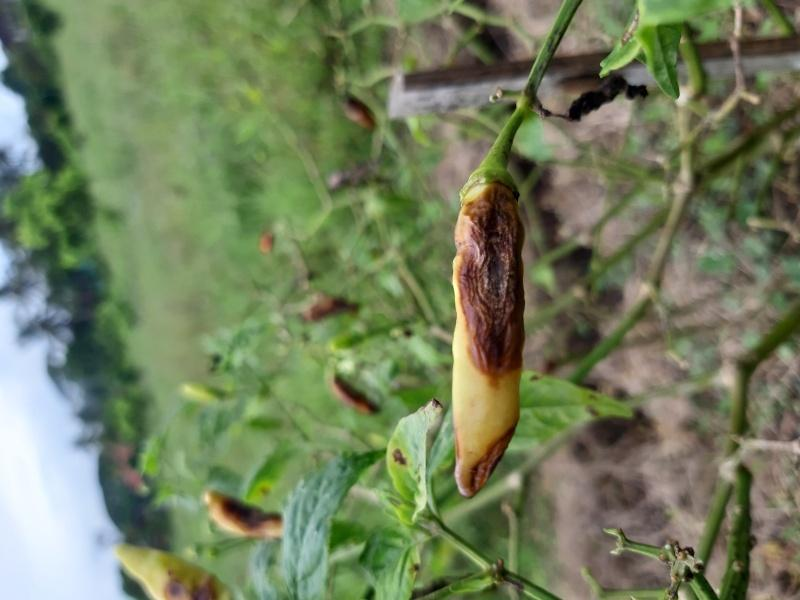antraknosa: (453, 184, 530, 498), (206, 487, 286, 540)
